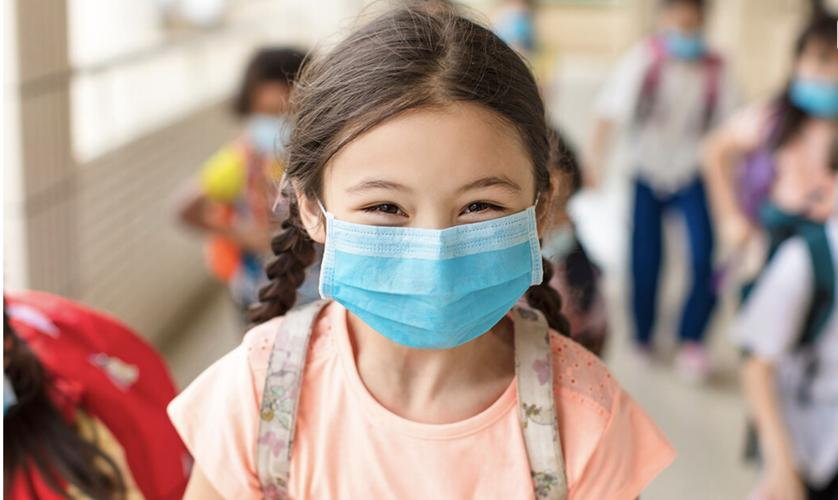mask: (311, 101, 549, 347)
